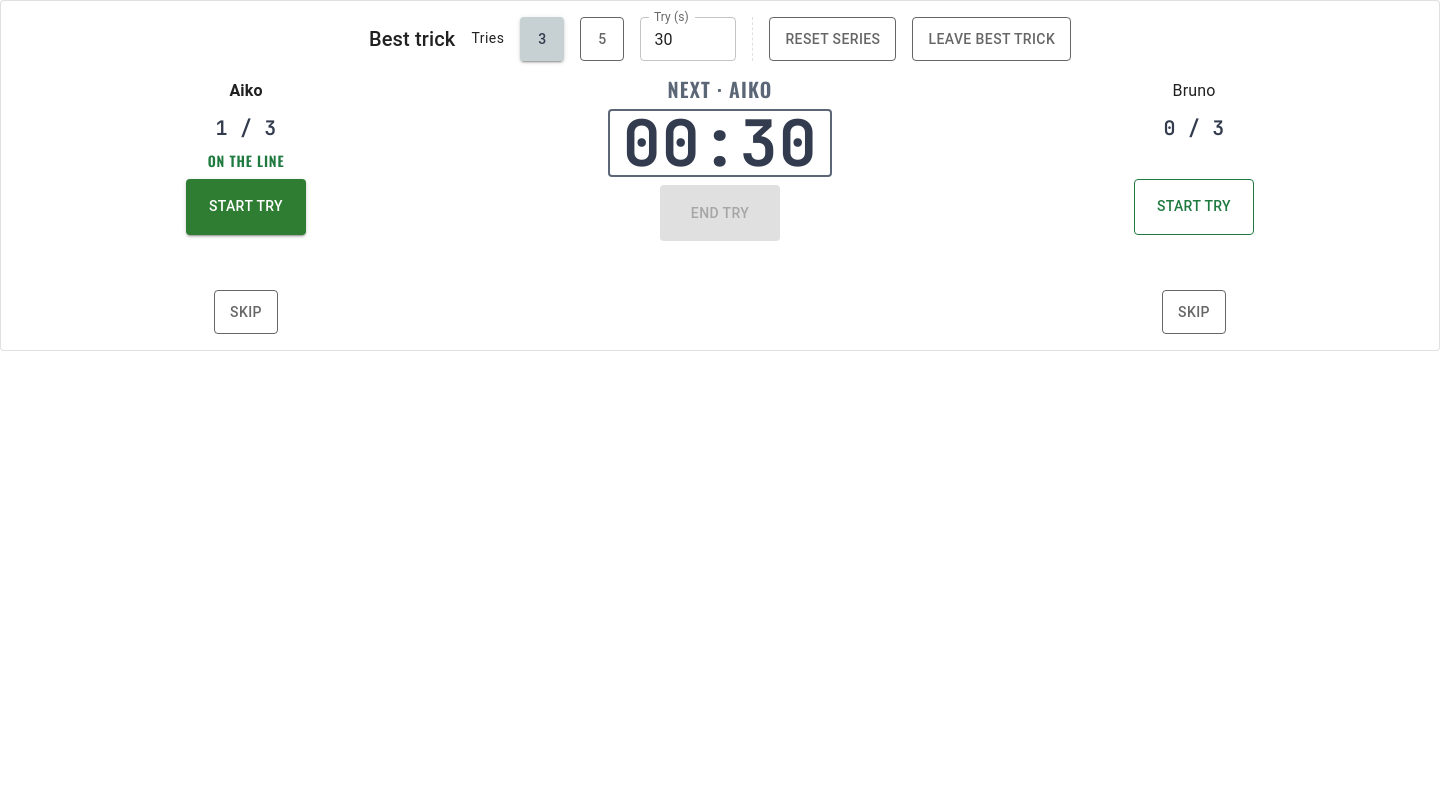
it: BestTrickPanel — Reset series guard › keeps the series when the prompt is dismissed
What coordinates should you click on to do the following:
click the button "Reset series"
I would click on:
 (833, 39)
Its box is [769,17,896,61].
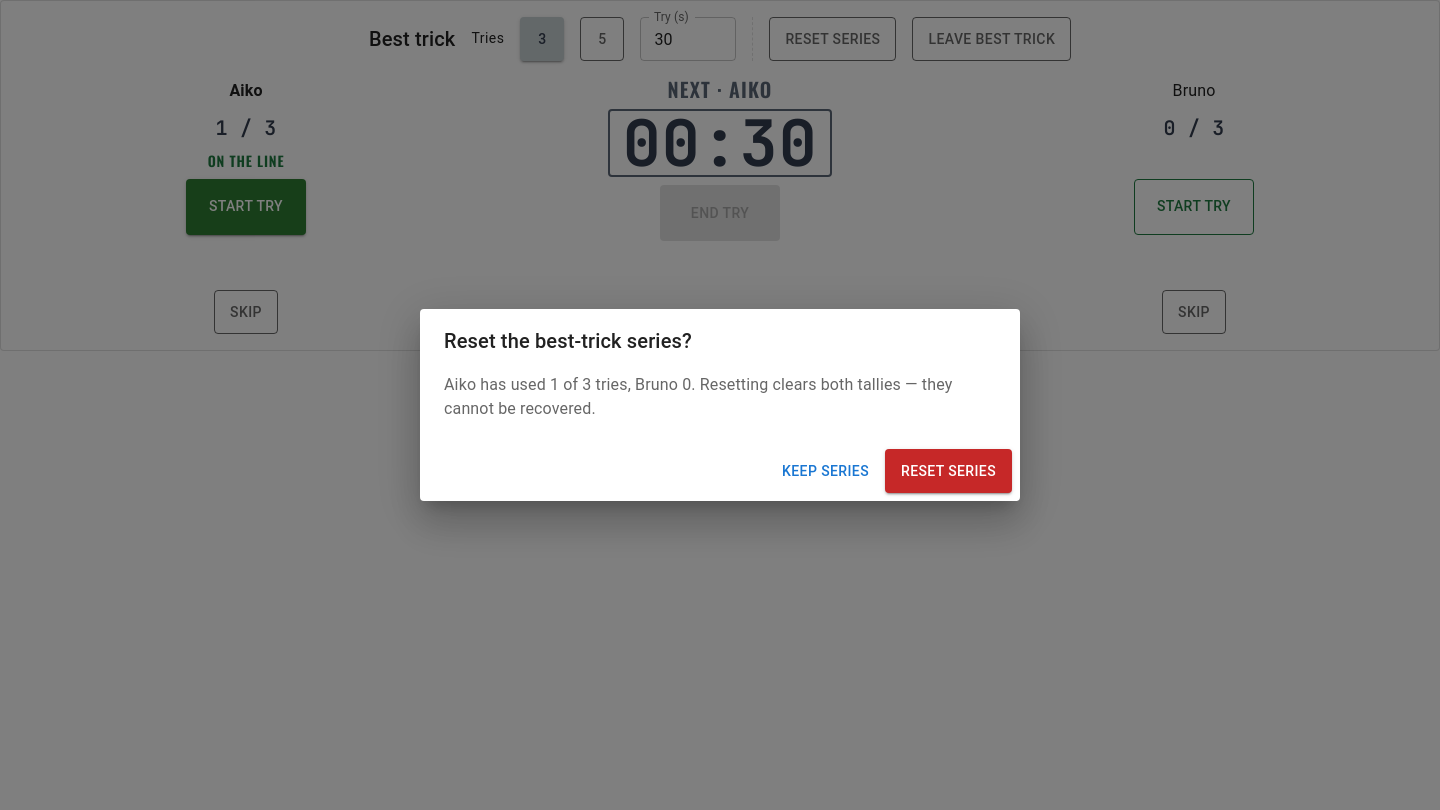
What coordinates should you click on to do the following:
click the button "Keep series"
I would click on:
 (826, 471)
Its box is [774,453,877,489].
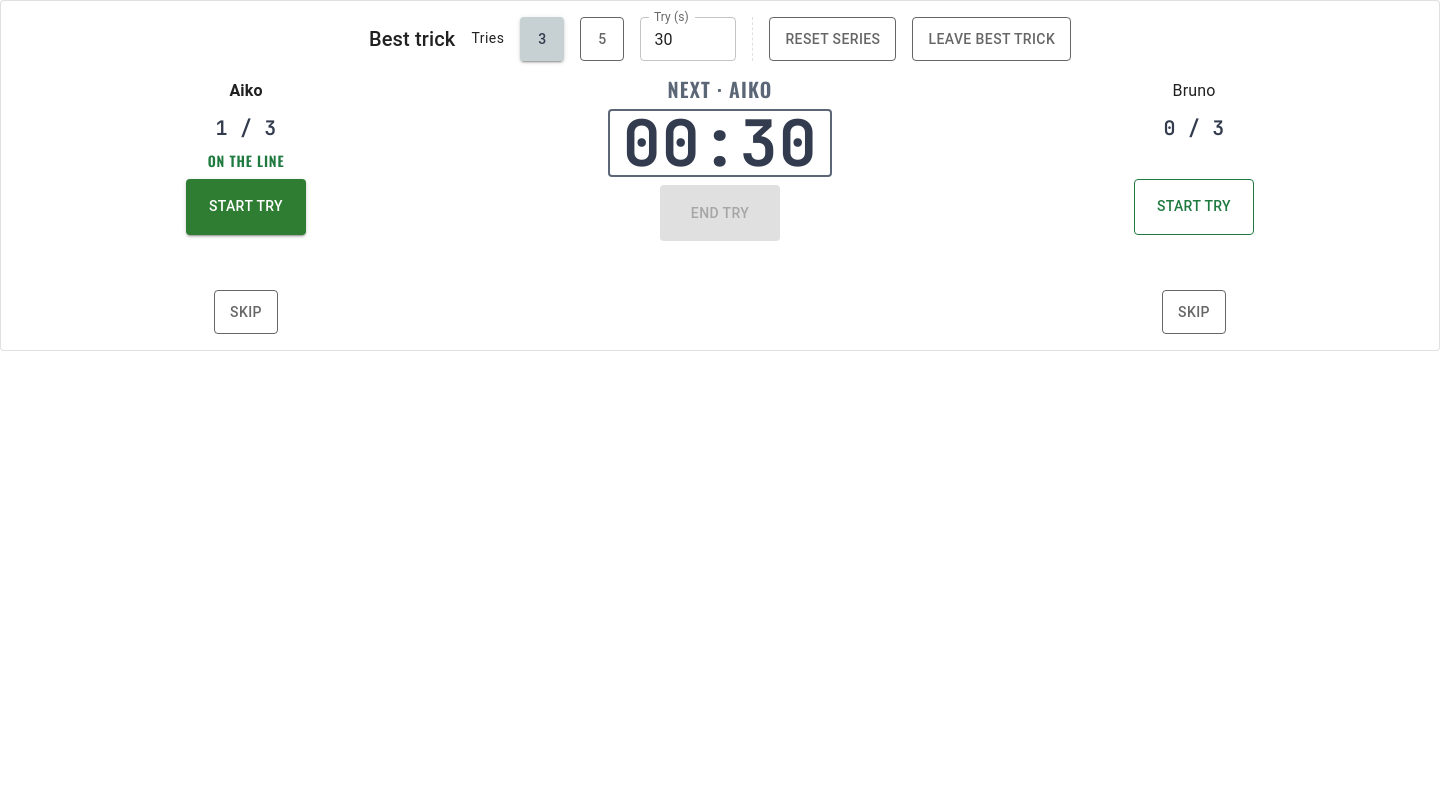
Check: the dialog is gone
